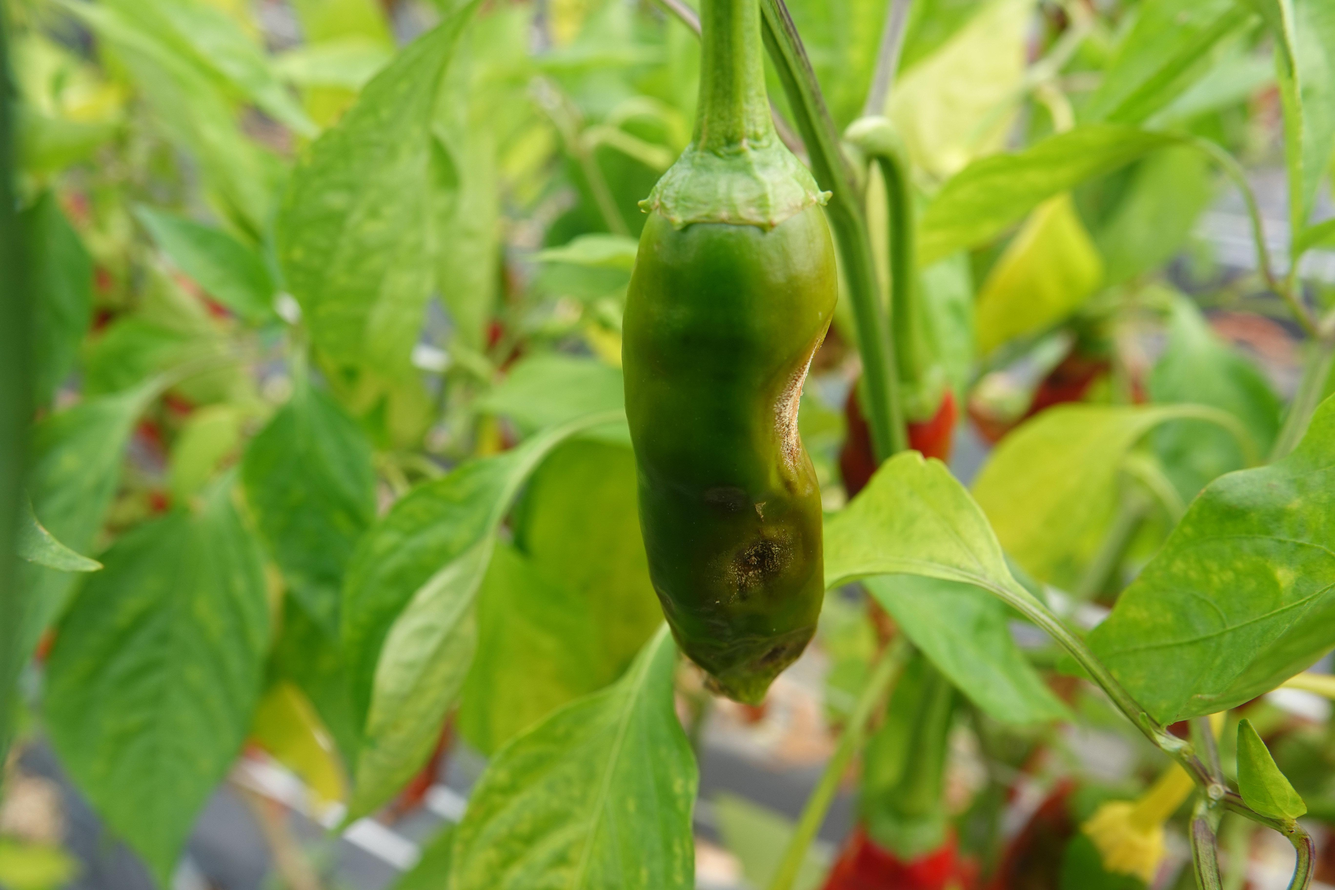Busuk Buah Antraknosa: (618, 125, 842, 708)
